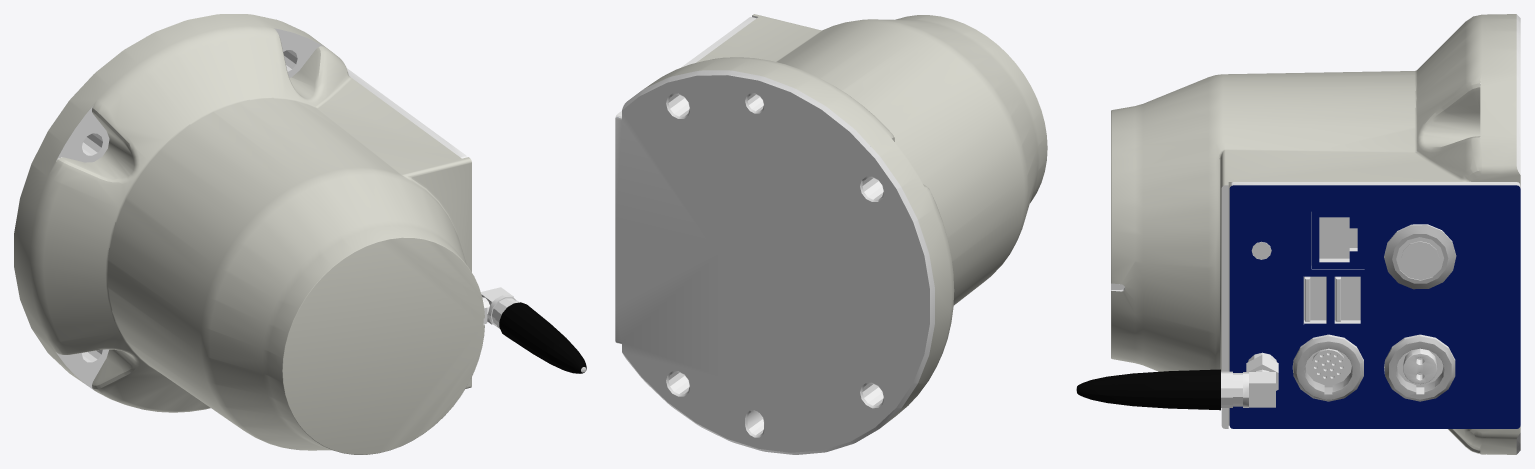
3 views of the same model, side by side, from view 1: azimuth 30°, elevation 25°; view 2: azimuth 150°, elevation 25°; view 3: azimuth 270°, elevation 25° (orthographic). The views are drawn at different scales.
Parts seen in each view (by area): view 1: Mesh (×6); view 2: Mesh (×4); view 3: Mesh (×20).
Boxes of the visible parts, left/top/right/bottom form: Mesh (×6): left=14, top=14, right=586, bottom=454; Mesh (×4): left=615, top=14, right=1047, bottom=454; Mesh (×20): left=1077, top=14, right=1520, bottom=454.
Size of the model in its own units: 116 by 110 by 111.
